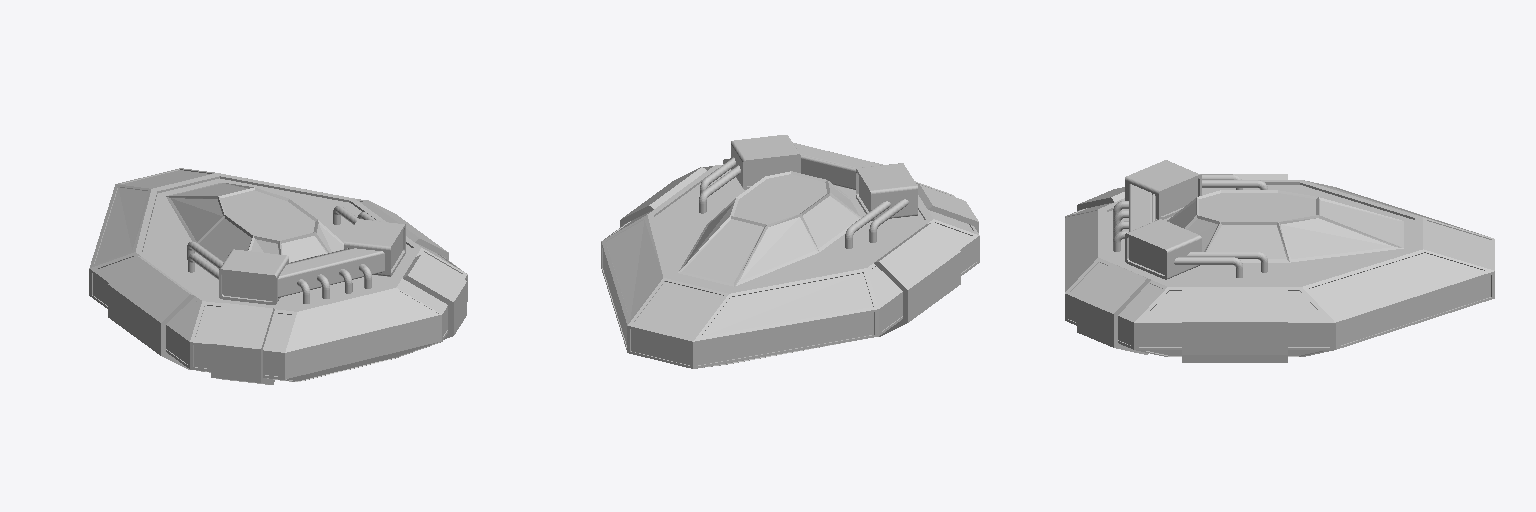
Rendered from ship_1.obj.
3 renders of one model, left to right at view 1: azimuth 30°, elevation 25°; view 2: azimuth 150°, elevation 25°; view 3: azimuth 270°, elevation 25°, orthographic.
Bounding box in the file's own units: 0.7221 × 0.2448 × 0.9353.